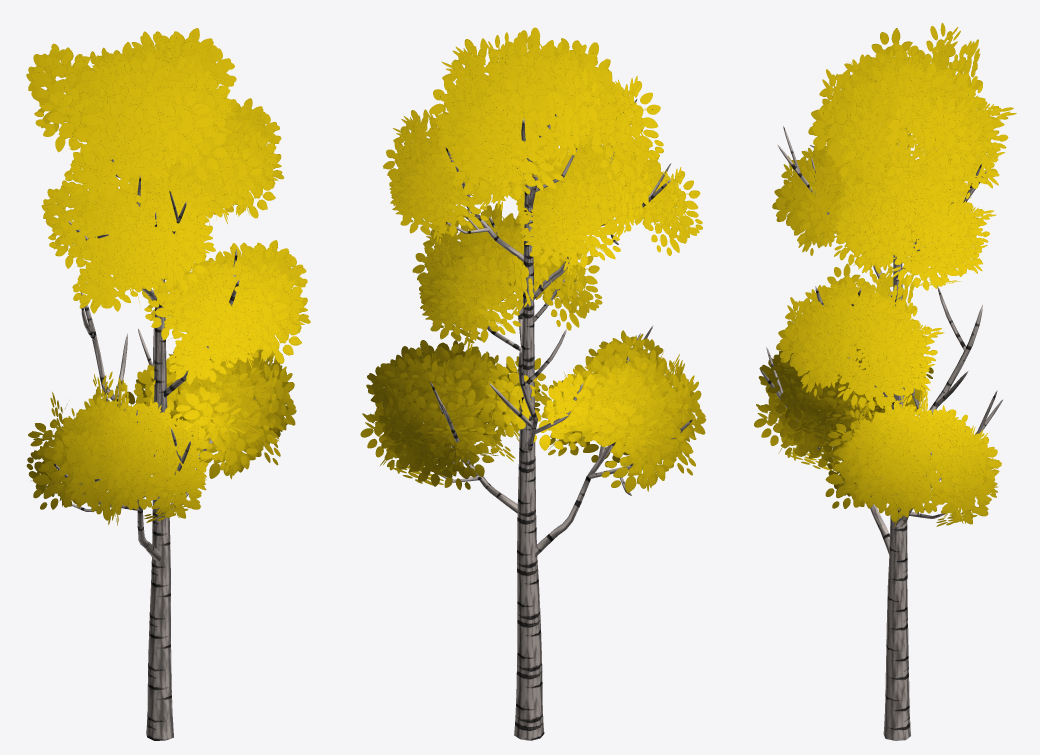
The model's file is birch_tree_2.gltf.
The picture shows the model from 3 angles, left to right: view 1: azimuth 30°, elevation 25°; view 2: azimuth 150°, elevation 25°; view 3: azimuth 270°, elevation 25°; orthographic projection. The views are drawn at different scales.
Parts seen in each view (by area): view 1: BirchTree_2; view 2: BirchTree_2; view 3: BirchTree_2.
Part boxes in pixels (bbox=[...]): BirchTree_2: bbox=[26, 28, 310, 740]; BirchTree_2: bbox=[360, 27, 706, 740]; BirchTree_2: bbox=[754, 22, 1016, 740].
Bounding box in the file's own units: 3.35 × 7.57 × 2.81.
2 materials, 2 textured.
